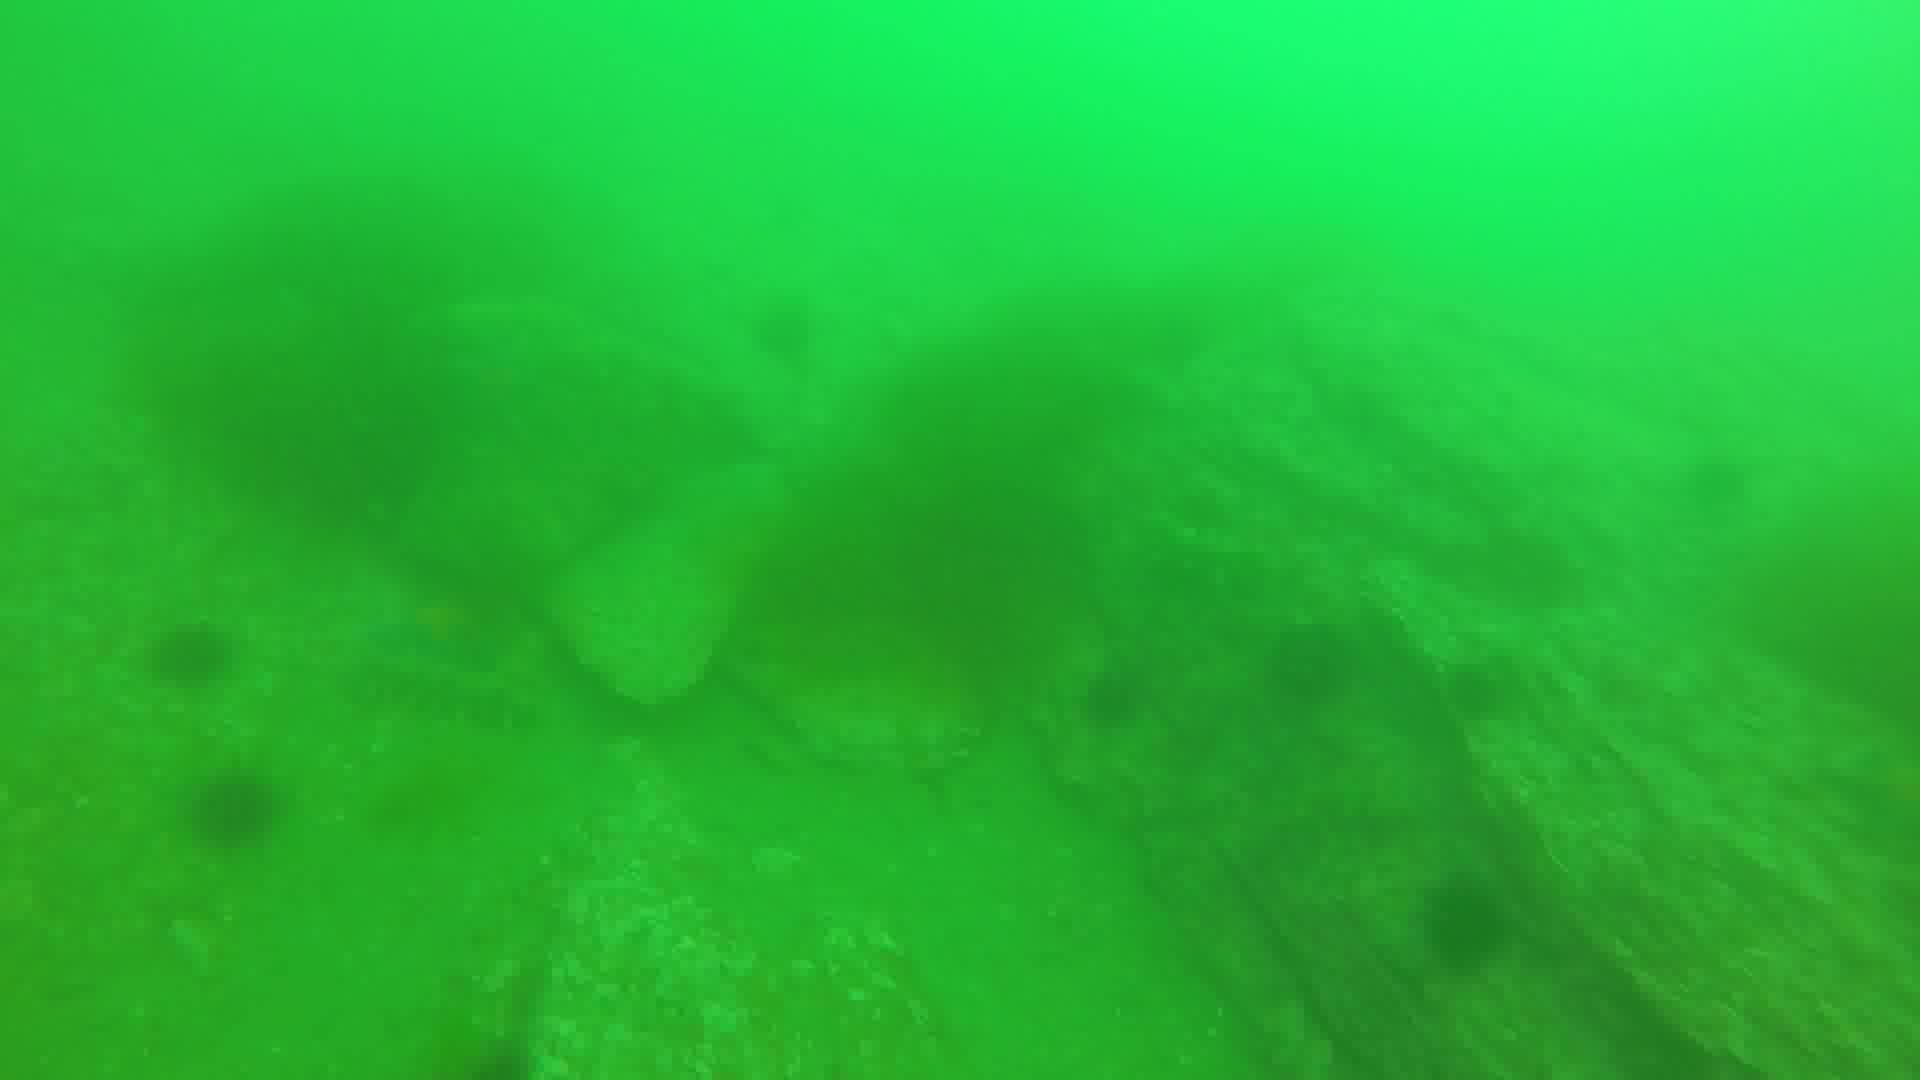echinus: (1435, 872, 1513, 973), (1269, 636, 1350, 705), (156, 626, 231, 698), (199, 774, 268, 851), (758, 295, 827, 371), (1081, 666, 1145, 721)
holothurian: (357, 647, 549, 732)
